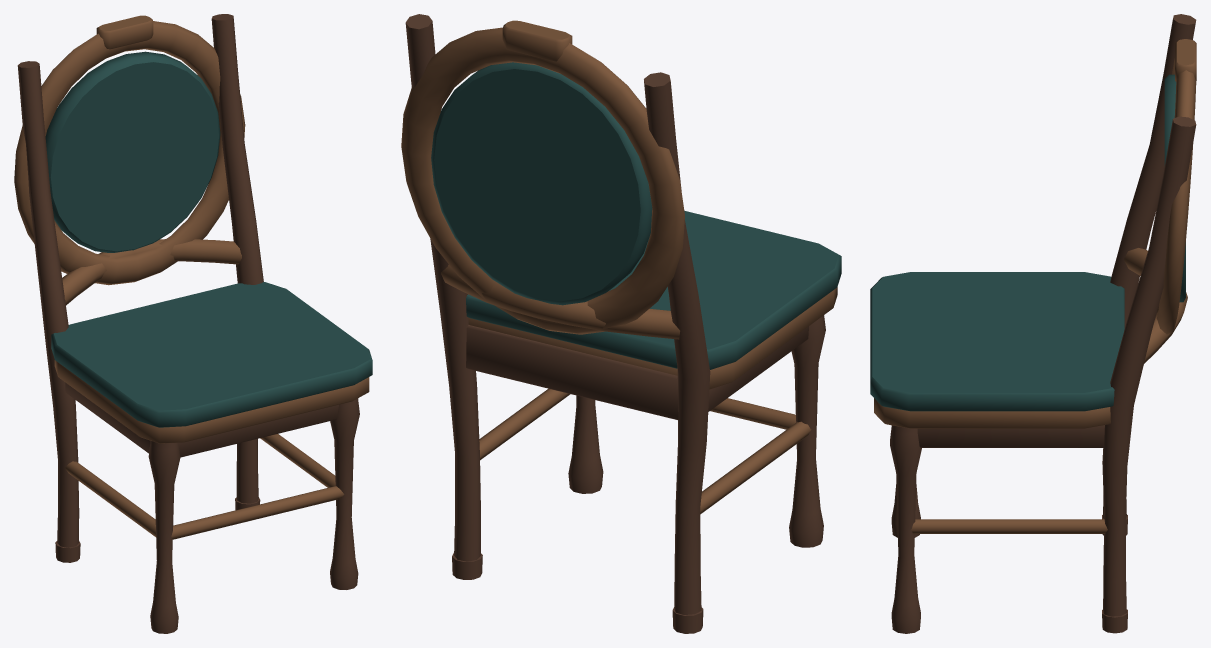
The model's file is rpg-mansion-balloon-side-01.glb.
3 views of the same model, side by side, from view 1: azimuth 30°, elevation 25°; view 2: azimuth 150°, elevation 25°; view 3: azimuth 270°, elevation 25° (orthographic). The views are drawn at different scales.
Parts seen in each view (by area): view 1: rpg-mansion-balloon-side-01; view 2: rpg-mansion-balloon-side-01; view 3: rpg-mansion-balloon-side-01.
Part boxes in pixels (x1,y1,x2,y2): rpg-mansion-balloon-side-01: (14,14,372,633); rpg-mansion-balloon-side-01: (401,14,841,633); rpg-mansion-balloon-side-01: (870,14,1196,633).
Size of the model in its own units: 0.487 by 0.98 by 0.548.
